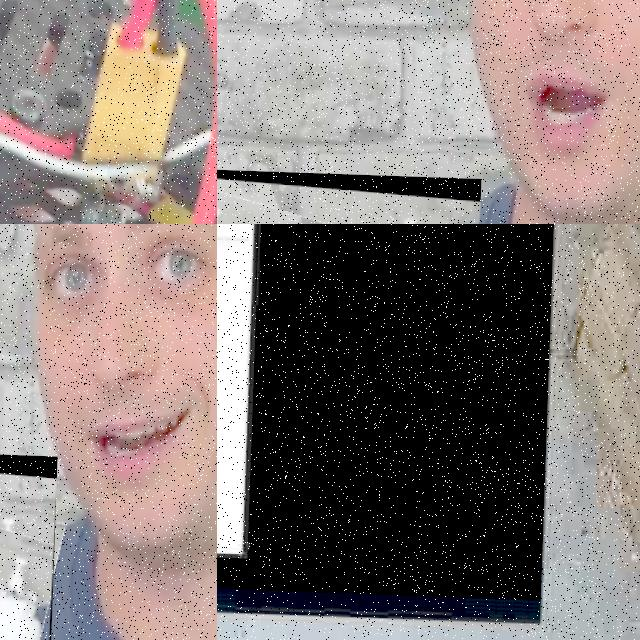drone: (0, 0, 217, 224)
